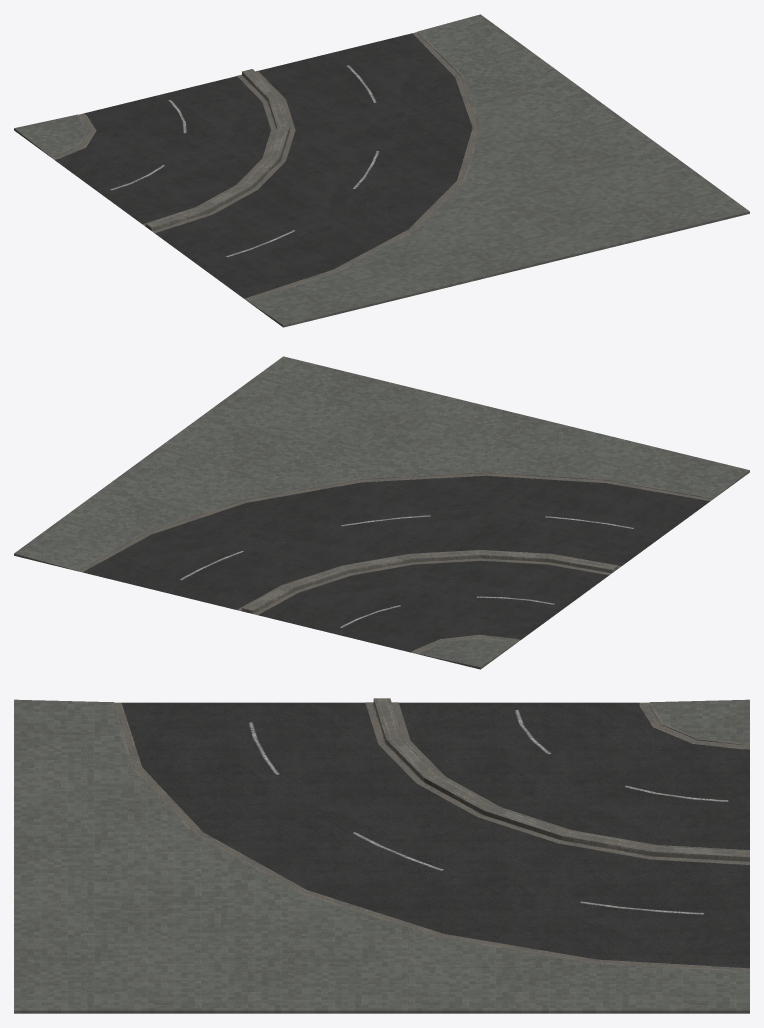
Rendered from jctlowRoadL22mA_a.fbx.
3 renders of one model, top to bottom at view 1: azimuth 30°, elevation 25°; view 2: azimuth 150°, elevation 25°; view 3: azimuth 270°, elevation 25°, orthographic. The views are drawn at different scales.
Parts seen in each view (by area): view 1: jctlowRoadL22mA_a; view 2: jctlowRoadL22mA_a; view 3: jctlowRoadL22mA_a.
Part boxes in pixels (x1,y1,x2,y2): jctlowRoadL22mA_a: (14, 14, 749, 327); jctlowRoadL22mA_a: (14, 356, 749, 669); jctlowRoadL22mA_a: (14, 698, 749, 1013).
Size of the model in its own units: 2200 by 15 by 2200.
3 materials, 3 textured.
